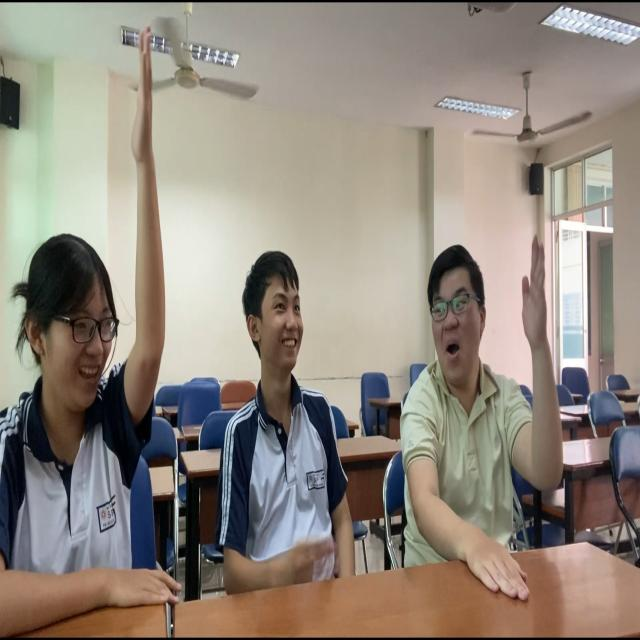raise_hand: (8, 13, 183, 640), (390, 219, 570, 586)
